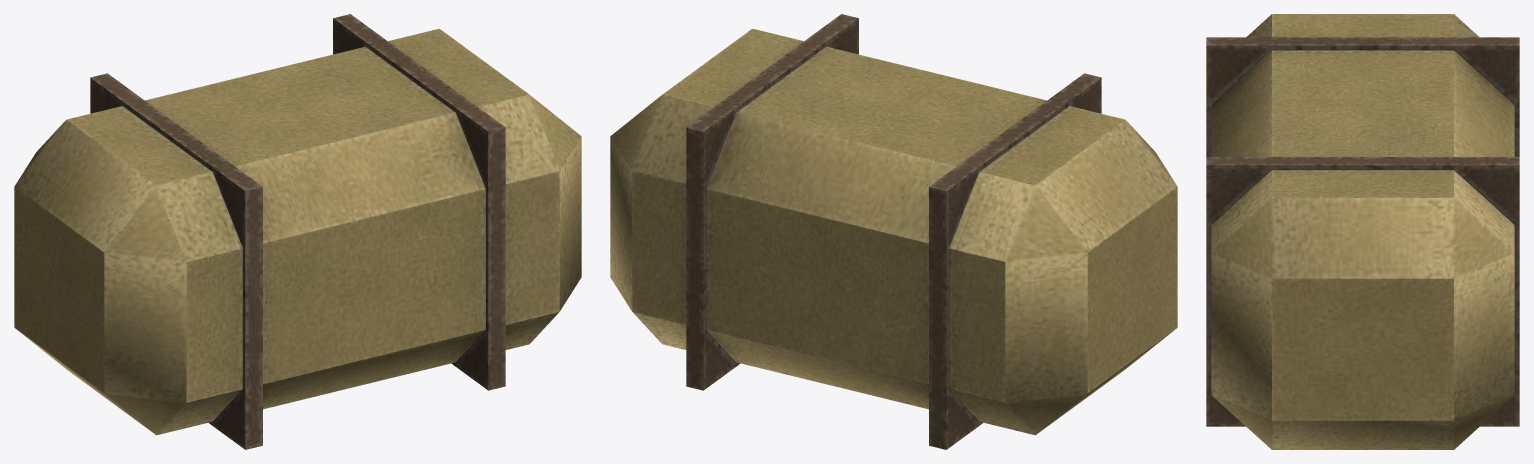
The model's file is fardo_feno.glb.
3 renders of one model, left to right at view 1: azimuth 30°, elevation 25°; view 2: azimuth 150°, elevation 25°; view 3: azimuth 270°, elevation 25°, orthographic.
Parts seen in each view (by area): view 1: fardo_feno; view 2: fardo_feno; view 3: fardo_feno.
Part boxes in pixels (box(x1,y1,x2,y2)): fardo_feno: box(14, 14, 581, 449); fardo_feno: box(610, 14, 1177, 449); fardo_feno: box(1206, 14, 1519, 449).
Size of the model in its own units: 1.1 by 0.57 by 0.62.
Materials: 1 (1 with a texture image).
